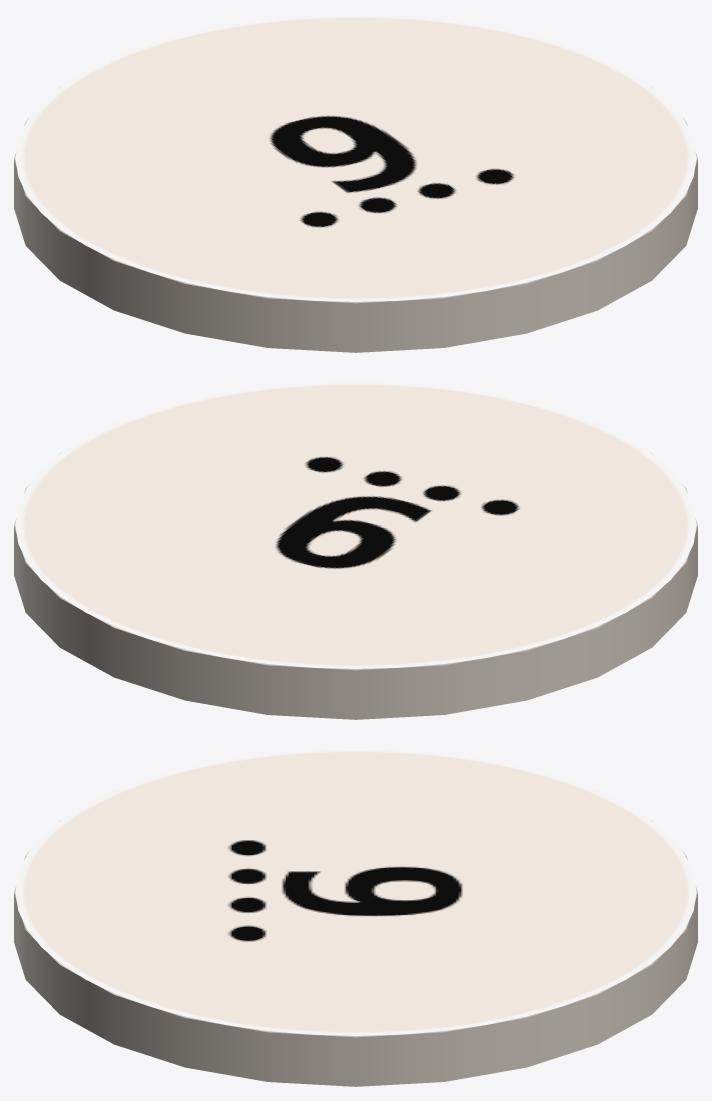
The model's file is counter-9.gltf.
The picture shows the model from 3 angles, top to bottom: view 1: azimuth 30°, elevation 25°; view 2: azimuth 150°, elevation 25°; view 3: azimuth 270°, elevation 25°; orthographic projection.
Size of the model in its own units: 0.025 by 0.00203 by 0.025.
Materials: 2 (1 with a texture image).
